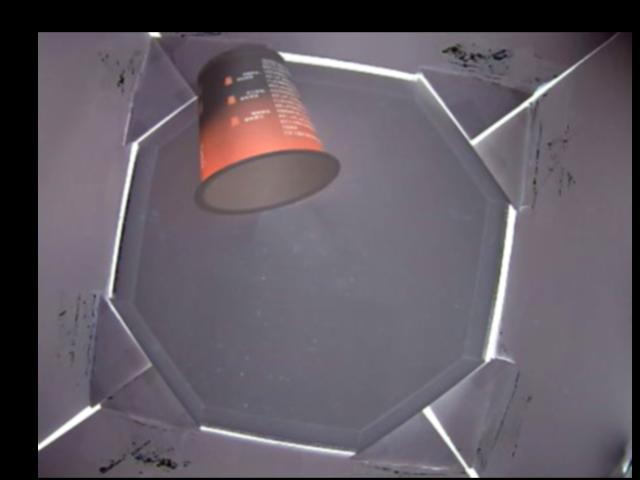Cup: (192, 42, 340, 218)
